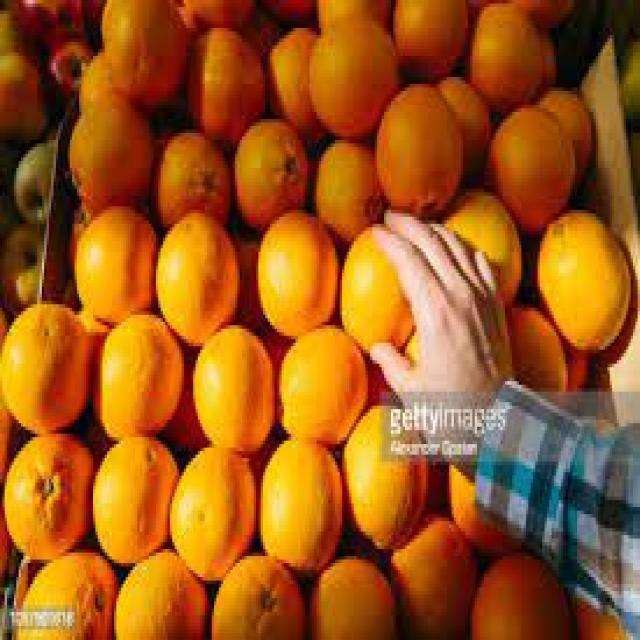orange: (154, 212, 240, 338)
